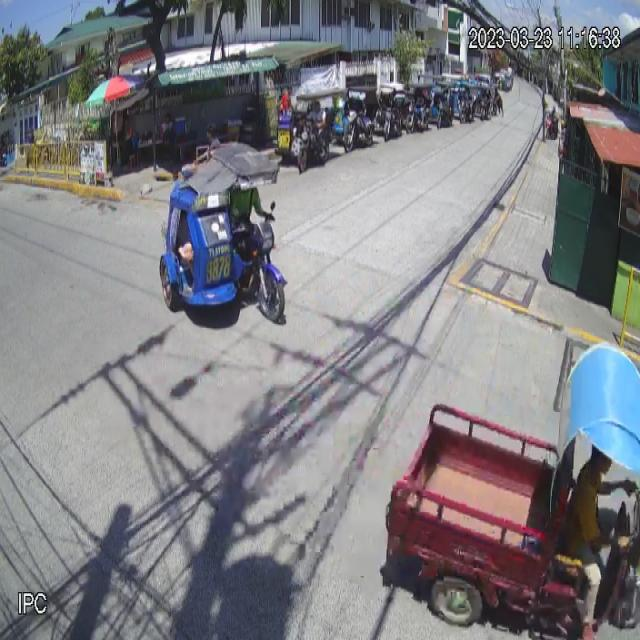Tricycle: (158, 141, 286, 334)
